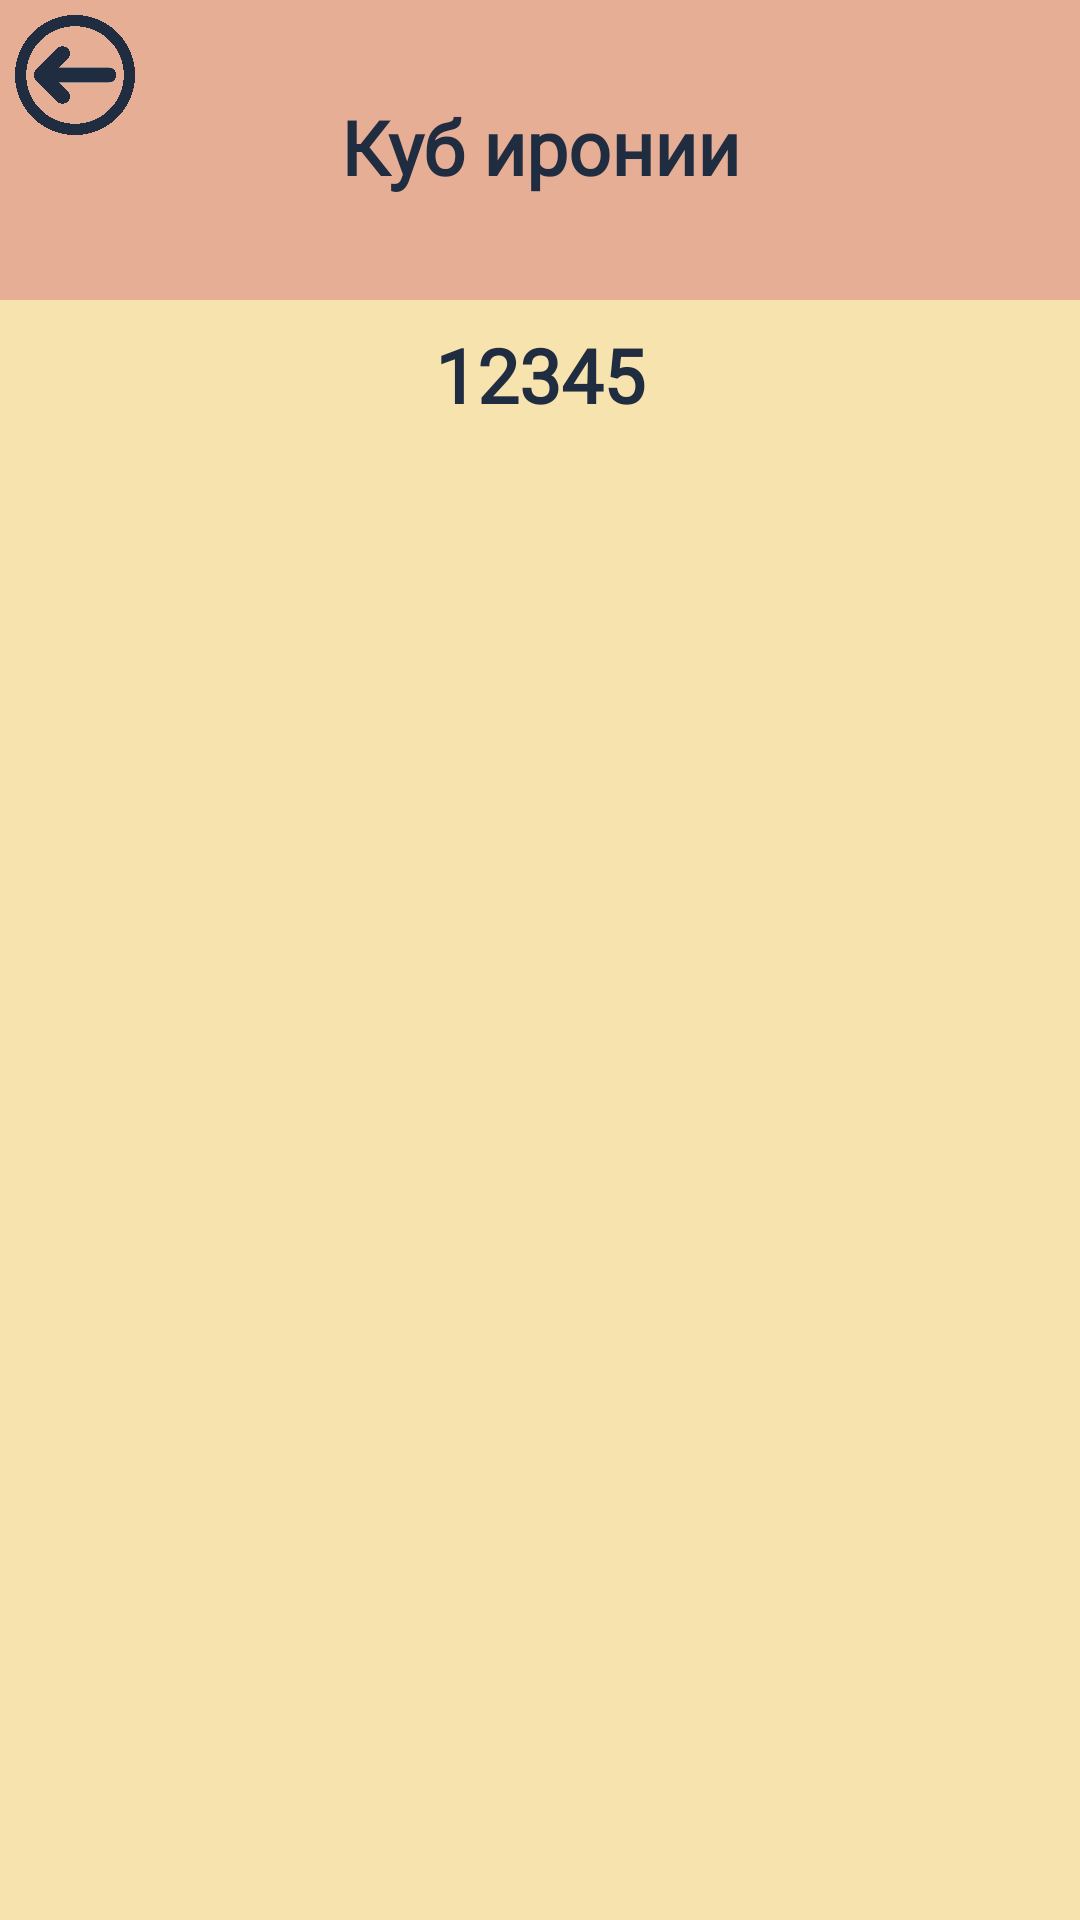

Icons on this 1080 × 1920 Android screen, each with its box as [x1, y1, x2, y2]:
backbutton: [15, 15, 135, 135]
